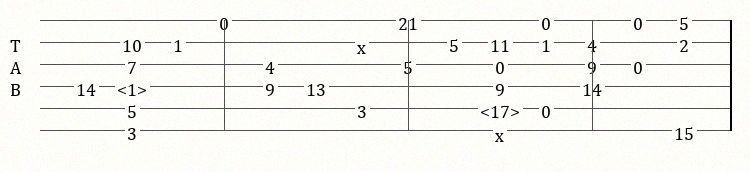0: (219, 12, 233, 28), (495, 56, 509, 72), (541, 100, 555, 116), (541, 12, 555, 28), (633, 56, 647, 72), (633, 12, 647, 28)
1: (173, 34, 187, 50), (541, 34, 555, 50)
10: (122, 34, 146, 50)
11: (490, 34, 514, 50)
13: (306, 78, 330, 94)
14: (76, 78, 100, 94), (582, 78, 606, 94)
15: (674, 122, 698, 139)
2: (679, 34, 693, 50)
21: (398, 12, 422, 28)
3: (127, 122, 141, 138), (357, 100, 371, 116)
4: (265, 56, 279, 72), (587, 34, 601, 50)
5: (127, 100, 141, 117), (403, 56, 417, 73), (449, 34, 463, 51), (679, 12, 693, 29)
7: (127, 56, 141, 73)
9: (265, 78, 279, 94), (495, 78, 509, 94), (587, 56, 601, 72)
harmonic: (480, 100, 524, 117), (117, 78, 151, 94)
x: (357, 36, 370, 49), (495, 124, 508, 137)
